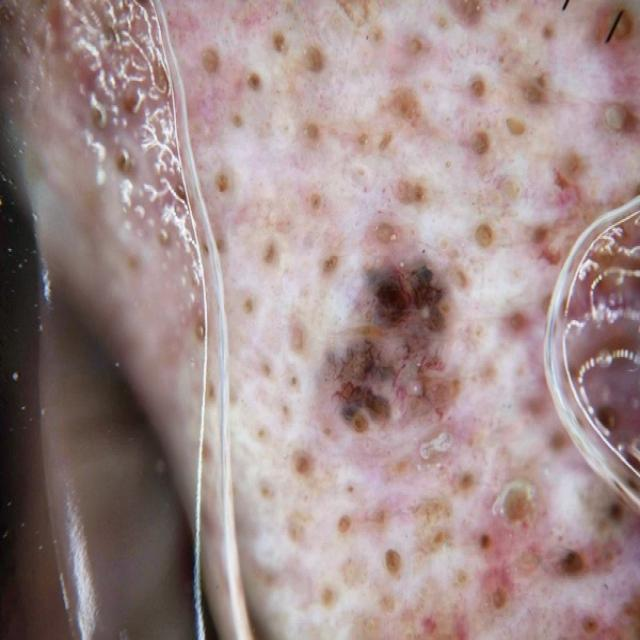Basal-Cell-Carcinoma-BCC-: (107, 53, 627, 604)
